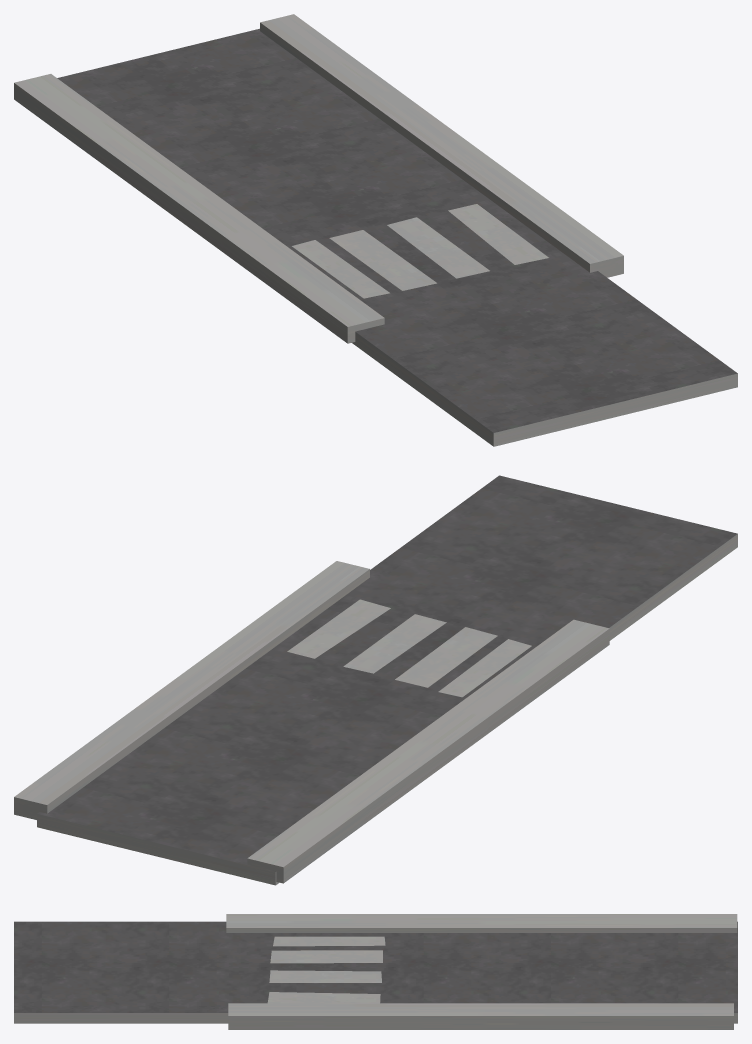
Rendered from doroga povorot.fbx.
The picture shows the model from 3 angles, top to bottom: view 1: azimuth 30°, elevation 25°; view 2: azimuth 150°, elevation 25°; view 3: azimuth 270°, elevation 25°; orthographic projection. The views are drawn at different scales.
Visible parts, largest first — view 1: дорога.001; view 2: дорога.001; view 3: дорога.001.
Boxes of the visible parts, x1=… form: дорога.001: x1=14, y1=14, x2=737, y2=446; дорога.001: x1=14, y1=475, x2=737, y2=885; дорога.001: x1=14, y1=914, x2=737, y2=1029.
Size of the model in its own units: 818 by 63.59 by 2410.
